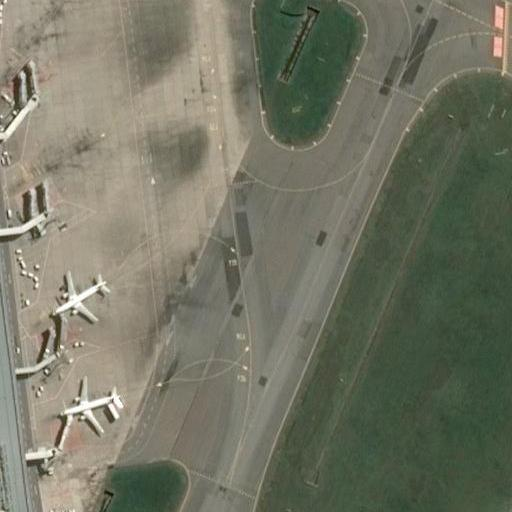Aircraft: (46, 266, 118, 331), (52, 379, 121, 433)
